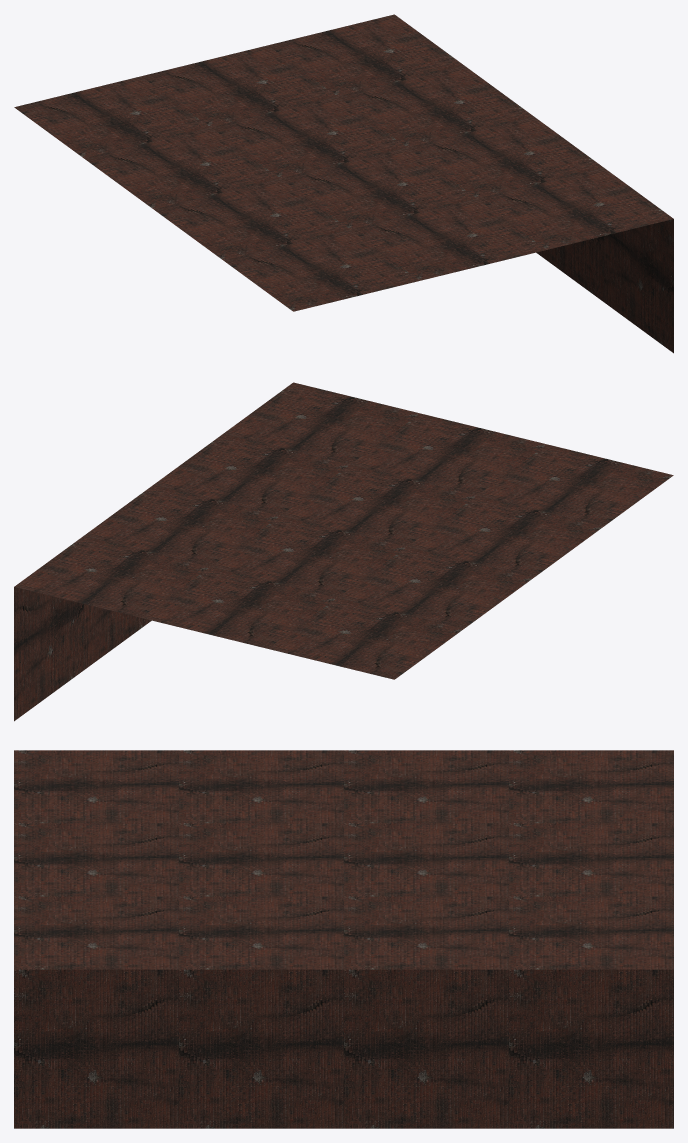
The model's file is TrainStationCeiling02.fbx.
The picture shows the model from 3 angles, top to bottom: view 1: azimuth 30°, elevation 25°; view 2: azimuth 150°, elevation 25°; view 3: azimuth 270°, elevation 25°; orthographic projection. The views are drawn at different scales.
Parts seen in each view (by area): view 1: TrainStationCeiling02; view 2: TrainStationCeiling02; view 3: TrainStationCeiling02.
Part boxes in pixels (x1,y1,x2,y2): TrainStationCeiling02: (14,14,673,353); TrainStationCeiling02: (14,382,673,721); TrainStationCeiling02: (14,750,673,1128).
Size of the model in its own units: 4.95 by 1.67 by 6.29.
